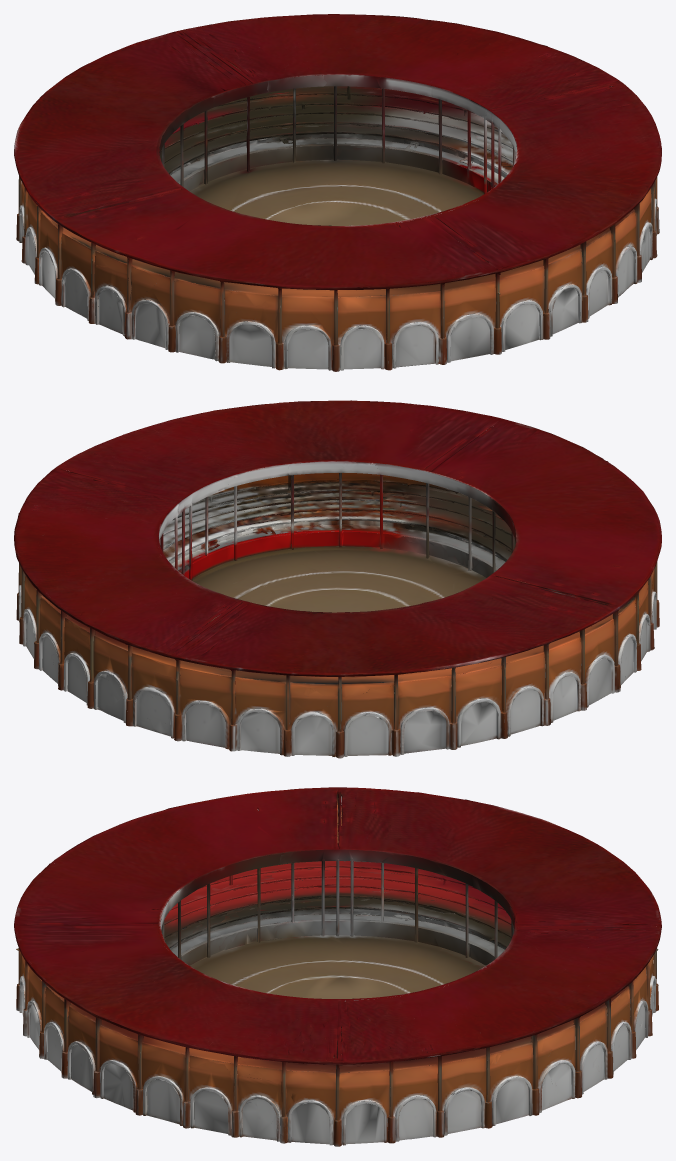
Rendered from toril.glb.
3 views of the same model, one above another, from view 1: azimuth 30°, elevation 25°; view 2: azimuth 150°, elevation 25°; view 3: azimuth 270°, elevation 25° (orthographic).
Visible parts, largest first — view 1: node_0; view 2: node_0; view 3: node_0.
Boxes of the visible parts, x1=… form: node_0: x1=14, y1=14, x2=661, y2=371; node_0: x1=14, y1=400, x2=661, y2=758; node_0: x1=14, y1=787, x2=661, y2=1146.
Bounding box in the file's own units: 1.19 × 0.1796 × 1.18.
Materials: 1 (1 with a texture image).
